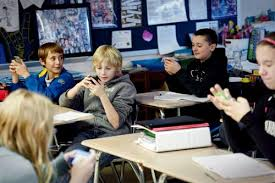Mobile-phone: (88, 74, 100, 87), (12, 56, 23, 67)
